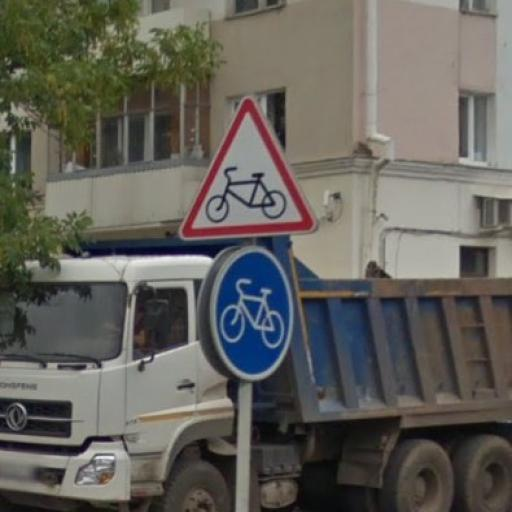traffic_sign: (178, 93, 323, 244), (207, 243, 298, 384)
